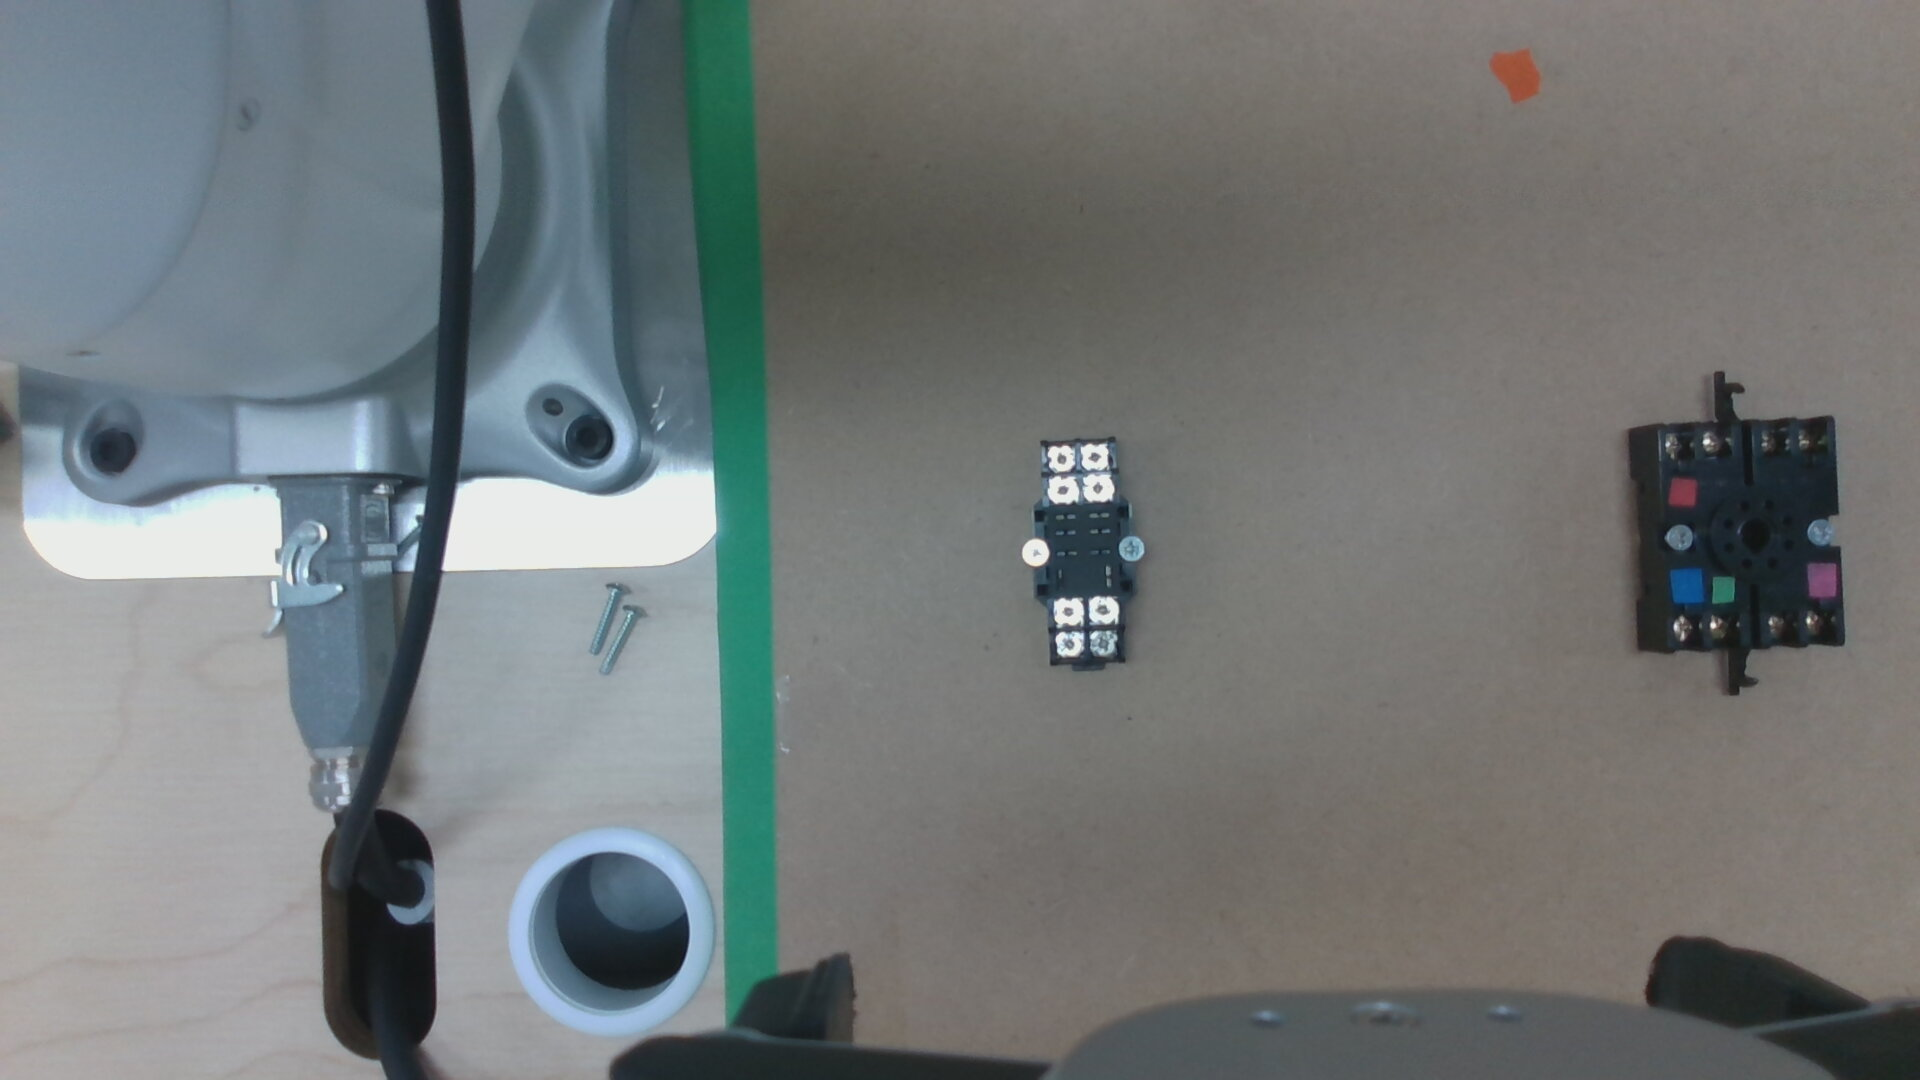relay 3: (1081, 446, 1108, 469)
relay 4: (1044, 447, 1073, 469)
relay 5: (1091, 632, 1117, 655)
relay 6: (1054, 633, 1083, 657)
relay 7: (1088, 597, 1118, 621)
relay 8: (1055, 600, 1081, 622)
